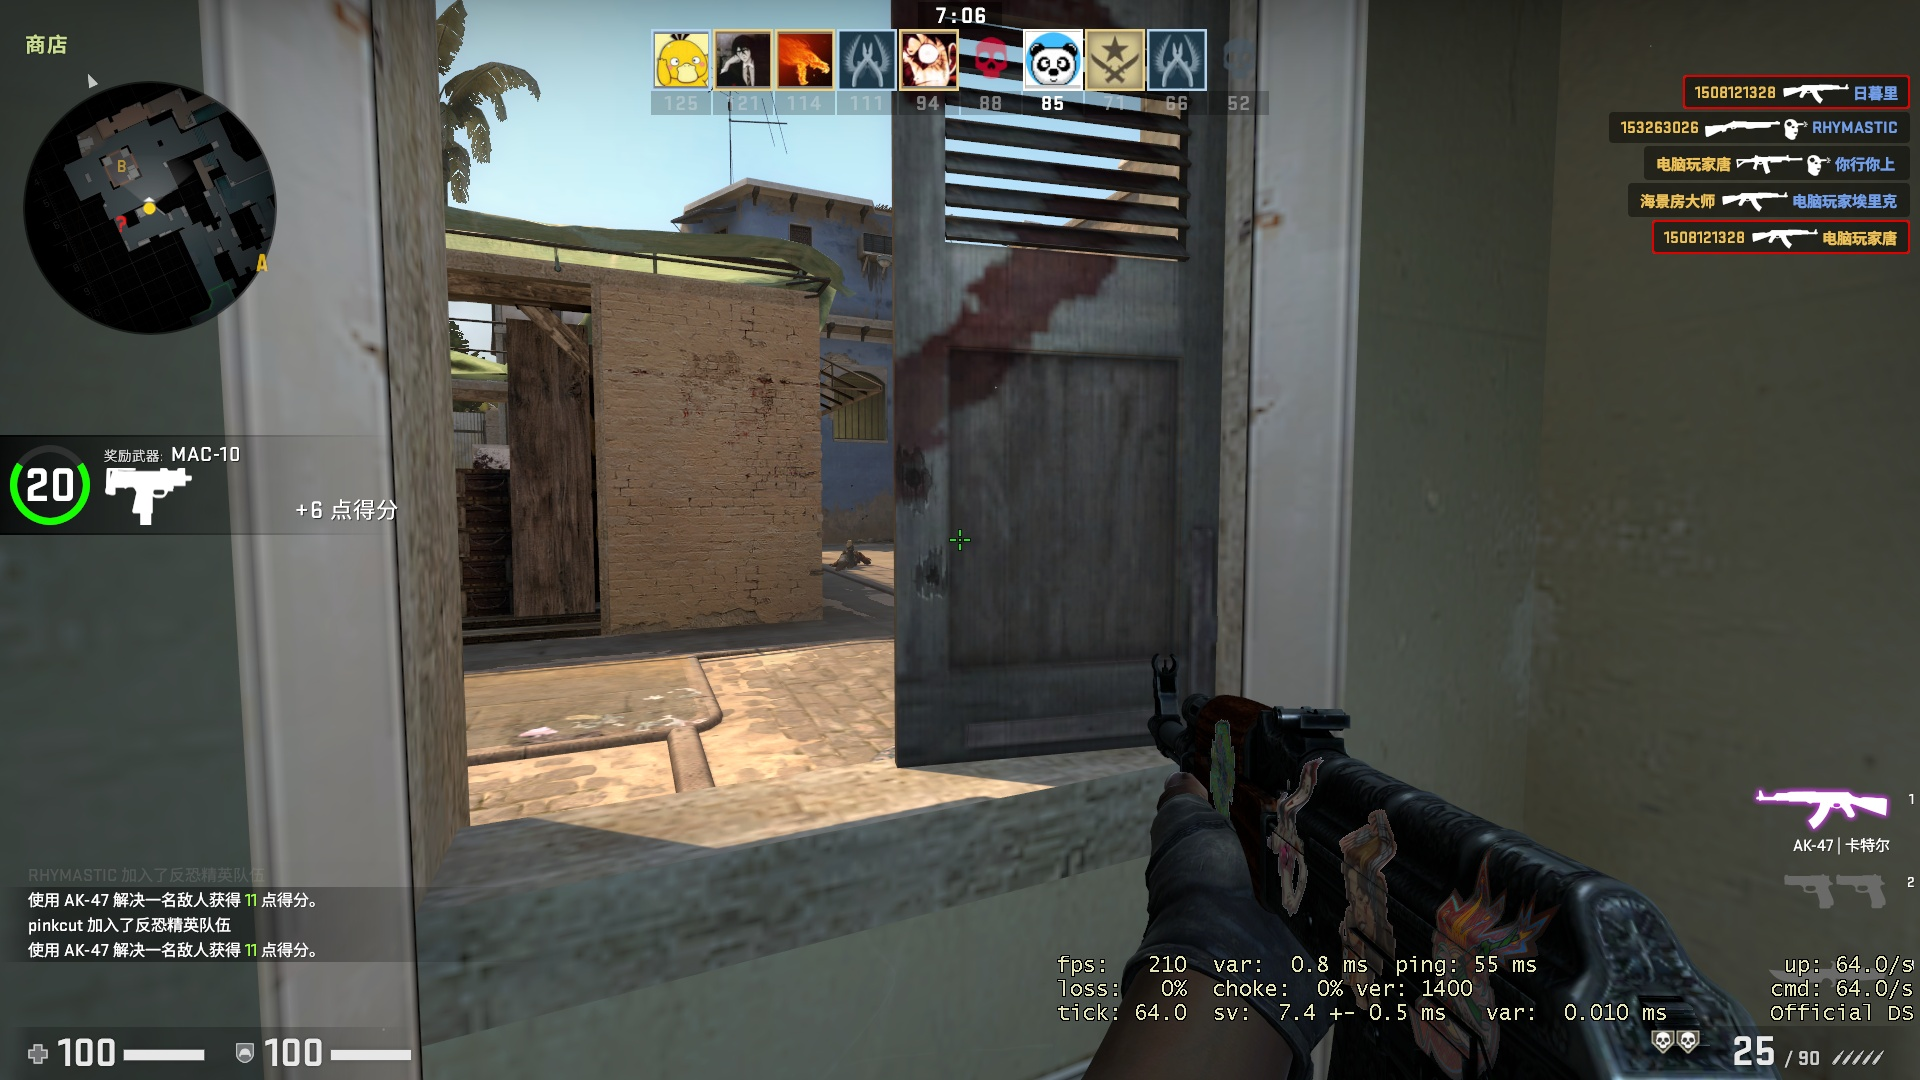body: (833, 541, 870, 572)
